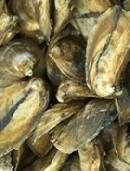3: (0, 78, 49, 157), (72, 0, 117, 42), (0, 146, 23, 171)
Oyster-Closed: (29, 101, 87, 156), (19, 147, 69, 171), (57, 79, 109, 102), (50, 0, 73, 42), (34, 0, 54, 40)
Oyster-Open: (85, 6, 130, 99), (49, 99, 116, 154), (50, 27, 88, 85), (0, 38, 41, 86), (98, 123, 130, 171), (7, 0, 40, 35), (47, 48, 66, 95), (79, 138, 106, 171), (0, 0, 19, 46), (116, 88, 130, 125), (57, 151, 81, 171)
